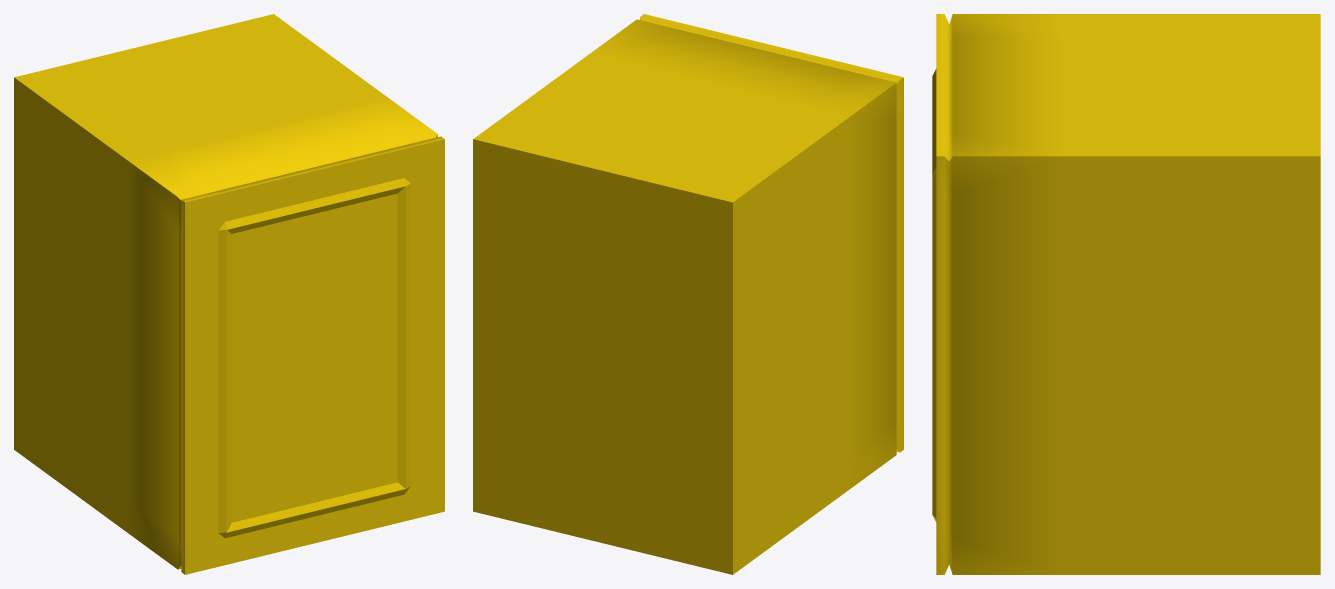
File: Kitchen_Cupboard_3b.FBX
The picture shows the model from 3 angles, left to right: view 1: azimuth 30°, elevation 25°; view 2: azimuth 150°, elevation 25°; view 3: azimuth 270°, elevation 25°; orthographic projection. The views are drawn at different scales.
Visible parts, largest first — view 1: Box006; view 2: Box006; view 3: Box006.
Part boxes in pixels (bbox=[...]): Box006: bbox=[14, 14, 444, 574]; Box006: bbox=[473, 14, 903, 574]; Box006: bbox=[932, 14, 1320, 574].
Size of the model in its own units: 0.7351 by 1.01 by 0.8468.
